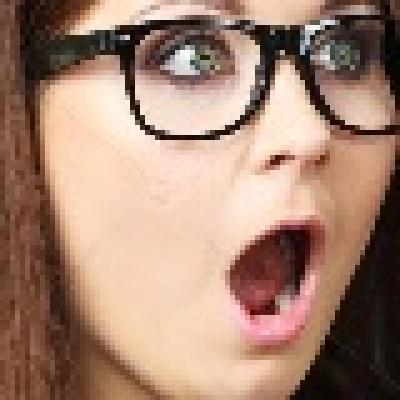surprise: (51, 0, 390, 397)
